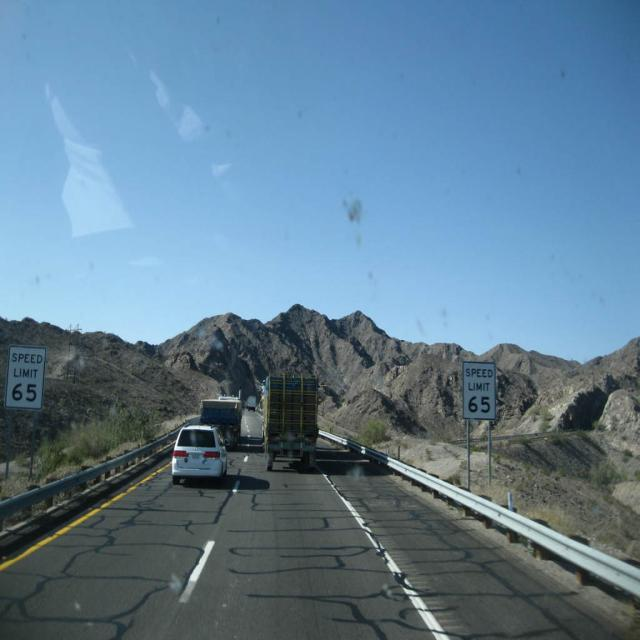car: (165, 426, 232, 498)
